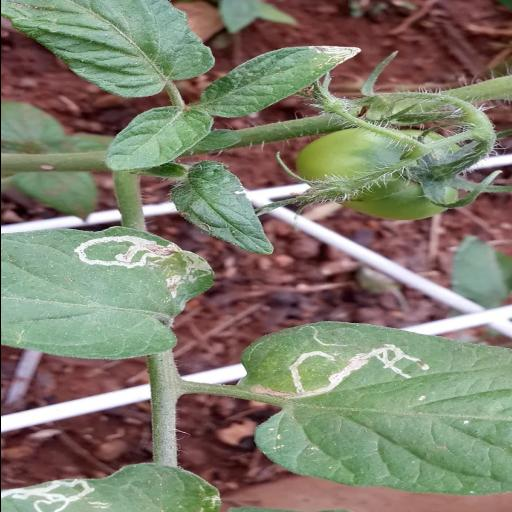Healthy: (101, 108, 217, 170)
Leaf Miner: (240, 318, 512, 494), (0, 225, 219, 359)
